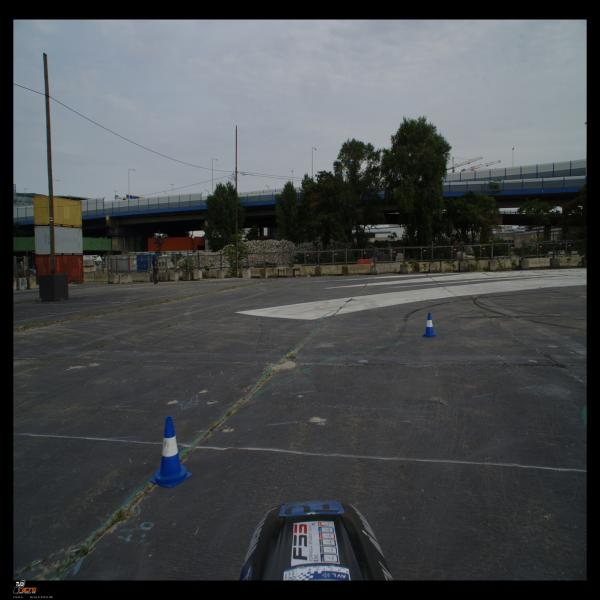blue_cone: (149, 416, 193, 488), (422, 312, 437, 338)
